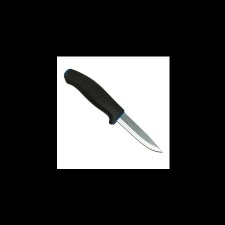k1: (107, 107, 164, 155)
